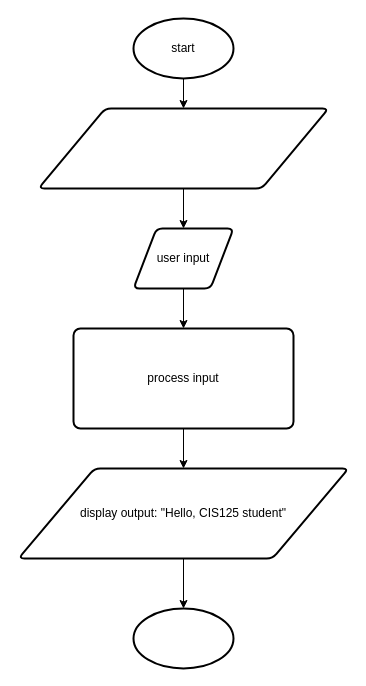
This 366x686 diagram has some shape labels left out. The shapes that lost their labels are listed below. From the top down, each one's box as (x1, y1, x2, y2) in pixels, then its label:
(37, 107, 329, 189): display label input: "Enter your name"
(132, 607, 234, 669): stop
